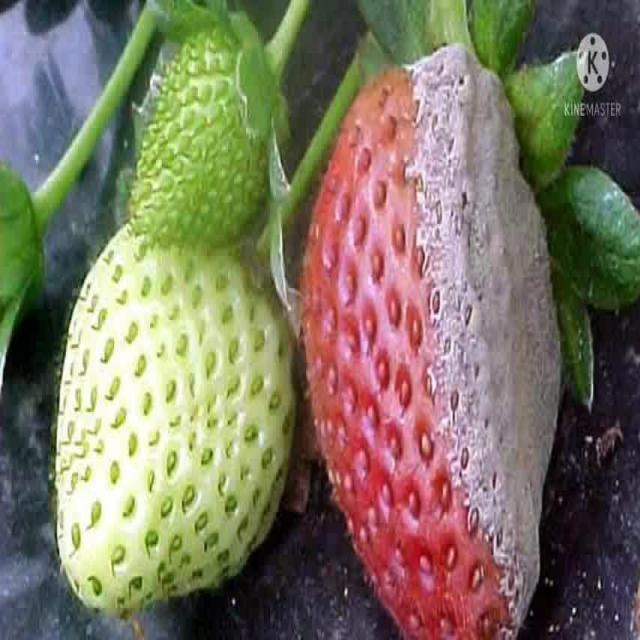Moho gris: (302, 48, 580, 640)
